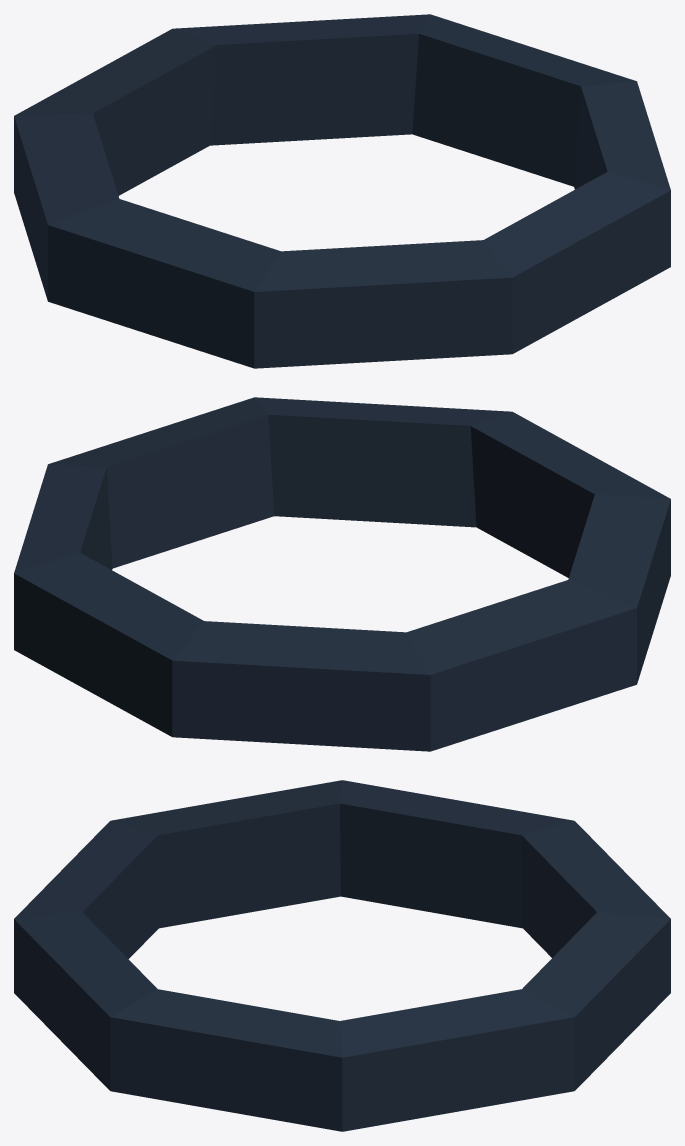
File: ring.glb
The picture shows the model from 3 angles, top to bottom: view 1: azimuth 30°, elevation 25°; view 2: azimuth 150°, elevation 25°; view 3: azimuth 270°, elevation 25°; orthographic projection. The views are drawn at different scales.
Visible parts, largest first — view 1: Cylinder; view 2: Cylinder; view 3: Cylinder.
Boxes of the visible parts, bbox=[...] form: Cylinder: bbox=[14, 14, 670, 368]; Cylinder: bbox=[14, 397, 670, 751]; Cylinder: bbox=[14, 780, 670, 1131].
Size of the model in its own units: 2 by 0.3228 by 2.
